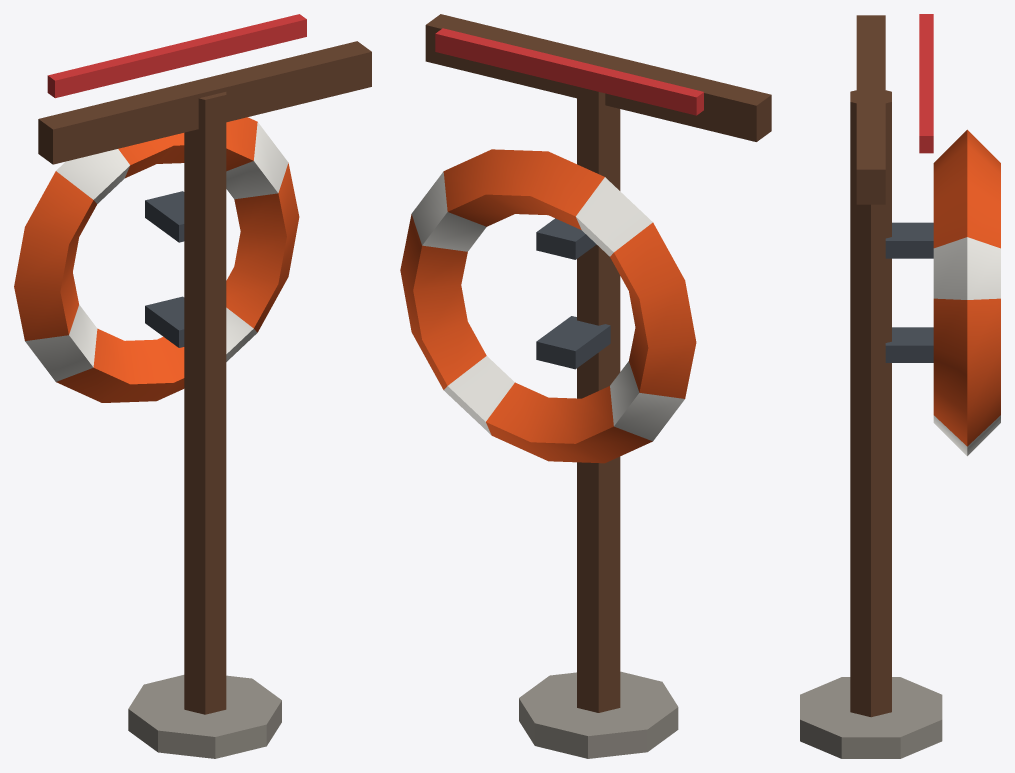
The model's file is life_ring.glb.
3 renders of one model, left to right at view 1: azimuth 30°, elevation 25°; view 2: azimuth 150°, elevation 25°; view 3: azimuth 270°, elevation 25°, orthographic. The views are drawn at different scales.
Parts seen in each view (by area): view 1: Body; view 2: Body; view 3: Body.
Boxes of the visible parts, box(x1,y1,x2,y2) form: Body: box(14, 14, 371, 758); Body: box(400, 14, 771, 758); Body: box(800, 14, 1000, 758).
Bounding box in the file's own units: 0.76 × 1.5 × 0.4178.
